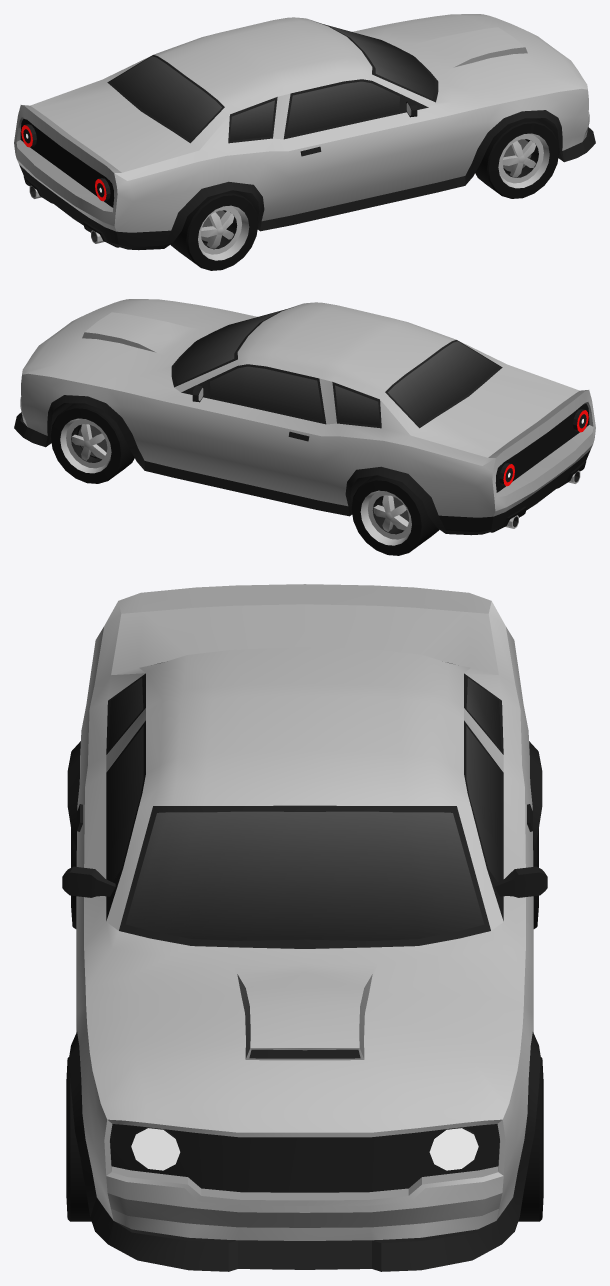
File: Car_102.glb
The picture shows the model from 3 angles, top to bottom: view 1: azimuth 30°, elevation 25°; view 2: azimuth 150°, elevation 25°; view 3: azimuth 270°, elevation 25°; orthographic projection. The views are drawn at different scales.
Parts seen in each view (by area): view 1: Car_102, wheel_1_Car_102_Wheel_1R, wheel_3_Car_102_Wheel_2R; view 2: Car_102, wheel_0_Car_102_Wheel_1L, wheel_2_Car_102_Wheel_2L; view 3: Car_102, wheel_0_Car_102_Wheel_1L, wheel_1_Car_102_Wheel_1R.
Boxes of the visible parts, box(x1,y1,x2,y2) form: Car_102: box(14, 14, 595, 250); wheel_1_Car_102_Wheel_1R: box(475, 118, 559, 198); wheel_3_Car_102_Wheel_2R: box(170, 190, 258, 270); Car_102: box(14, 299, 595, 535); wheel_0_Car_102_Wheel_1L: box(50, 403, 134, 483); wheel_2_Car_102_Wheel_2L: box(351, 475, 439, 555); Car_102: box(62, 584, 547, 1271); wheel_0_Car_102_Wheel_1L: box(518, 1057, 543, 1221); wheel_1_Car_102_Wheel_1R: box(66, 1057, 91, 1221).
Bounding box in the file's own units: 5.1 × 1.48 × 2.1.
2 materials, 2 textured.
